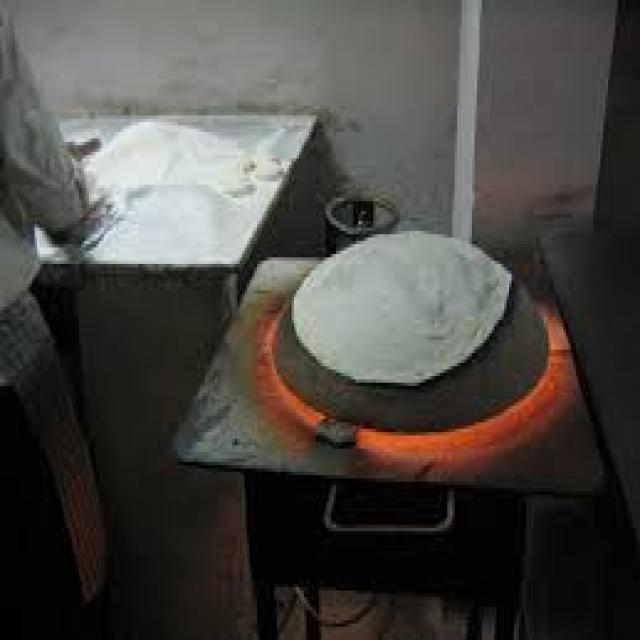RICE BHAKRI: (300, 227, 506, 385)
